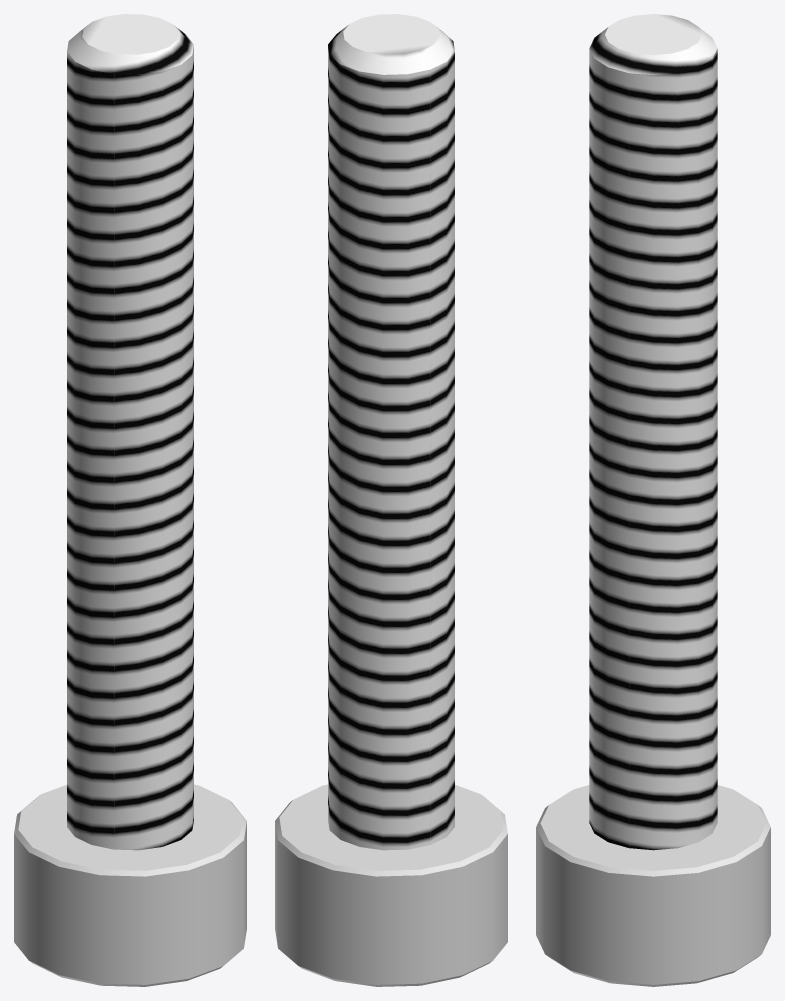
File: vint_jelob.fbx
3 renders of one model, left to right at view 1: azimuth 30°, elevation 25°; view 2: azimuth 150°, elevation 25°; view 3: azimuth 270°, elevation 25°, orthographic.
Parts seen in each view (by area): view 1: vint_jelob.001; view 2: vint_jelob.001; view 3: vint_jelob.001.
Boxes of the visible parts, x1=… form: vint_jelob.001: x1=14, y1=14, x2=246, y2=986; vint_jelob.001: x1=275, y1=14, x2=507, y2=986; vint_jelob.001: x1=536, y1=14, x2=770, y2=986.
Size of the model in its own units: 0.55 by 2.34 by 0.55.
Materials: 1 (1 with a texture image).
